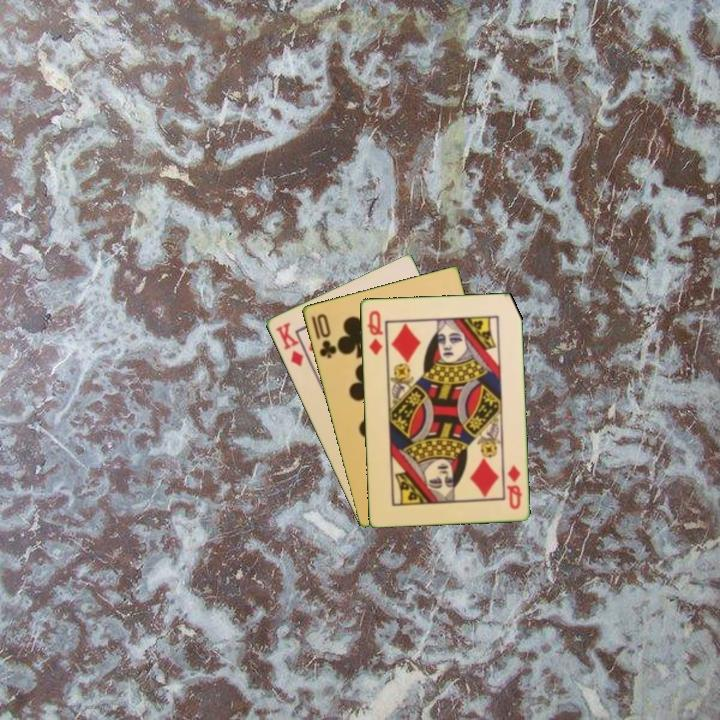10c: (307, 310, 339, 361)
Kd: (271, 318, 306, 370)
Qd: (363, 306, 385, 358), (503, 461, 525, 512)
